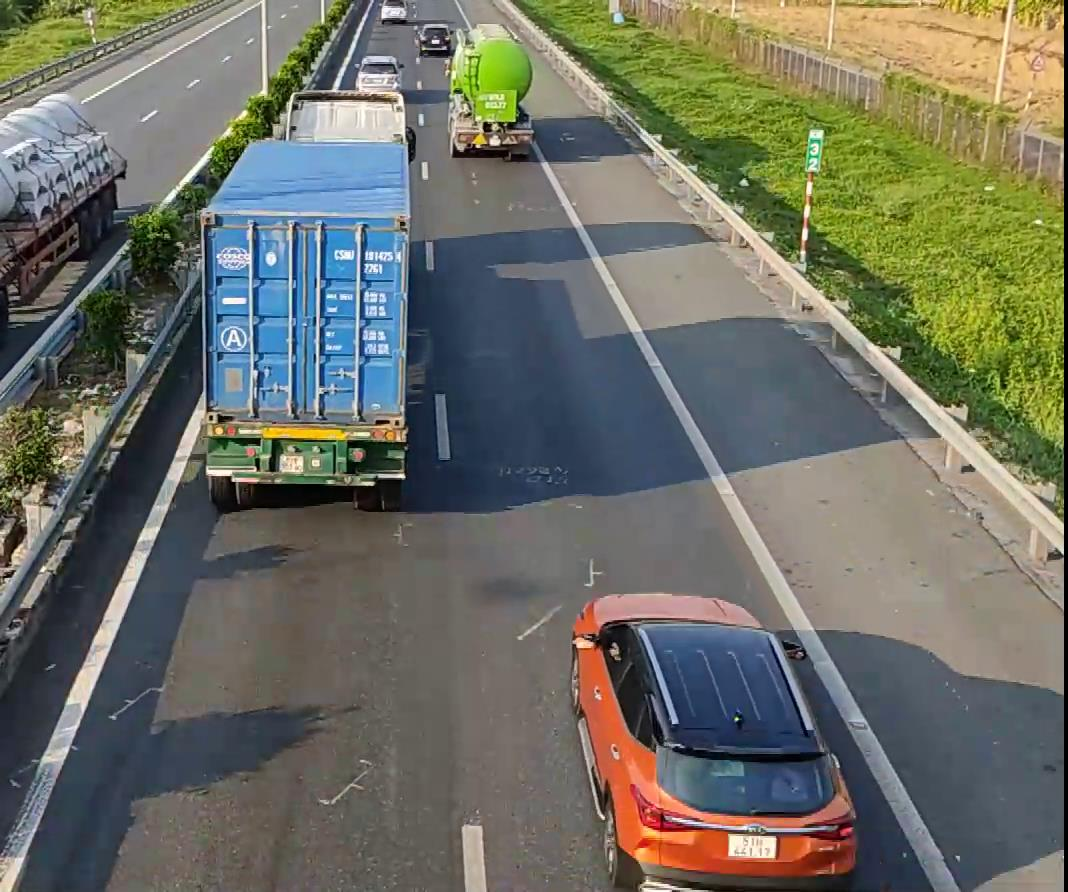car: (568, 597, 859, 887)
container: (199, 83, 420, 511), (0, 90, 127, 379)
truck: (446, 23, 534, 158)
